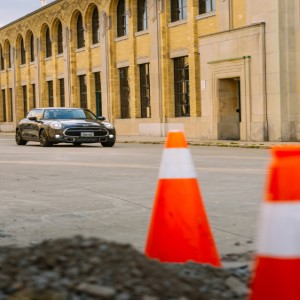traffic cone: (145, 130, 221, 267), (250, 145, 300, 300)
